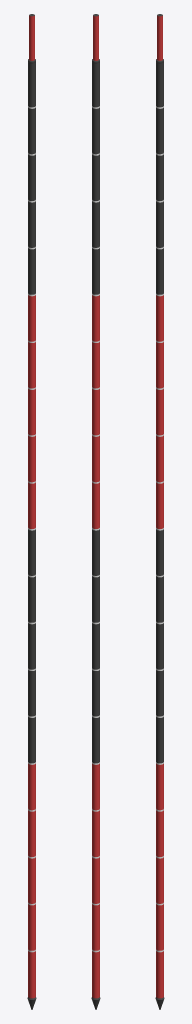
Rendered from CS6360-GP_probe1.fbx.
3 renders of one model, left to right at view 1: azimuth 90°, elevation 25°; view 2: azimuth 210°, elevation 25°; view 3: azimuth 270°, elevation 25°, orthographic.
Parts seen in each view (by area): view 1: Cylinder; view 2: Cylinder; view 3: Cylinder.
Boxes of the visible parts, x1,y1,x2,y2 form: Cylinder: (27,14,36,1009); Cylinder: (91,14,100,1009); Cylinder: (155,14,164,1009).
Bounding box in the file's own units: 14.07 × 1698 × 14.07.
